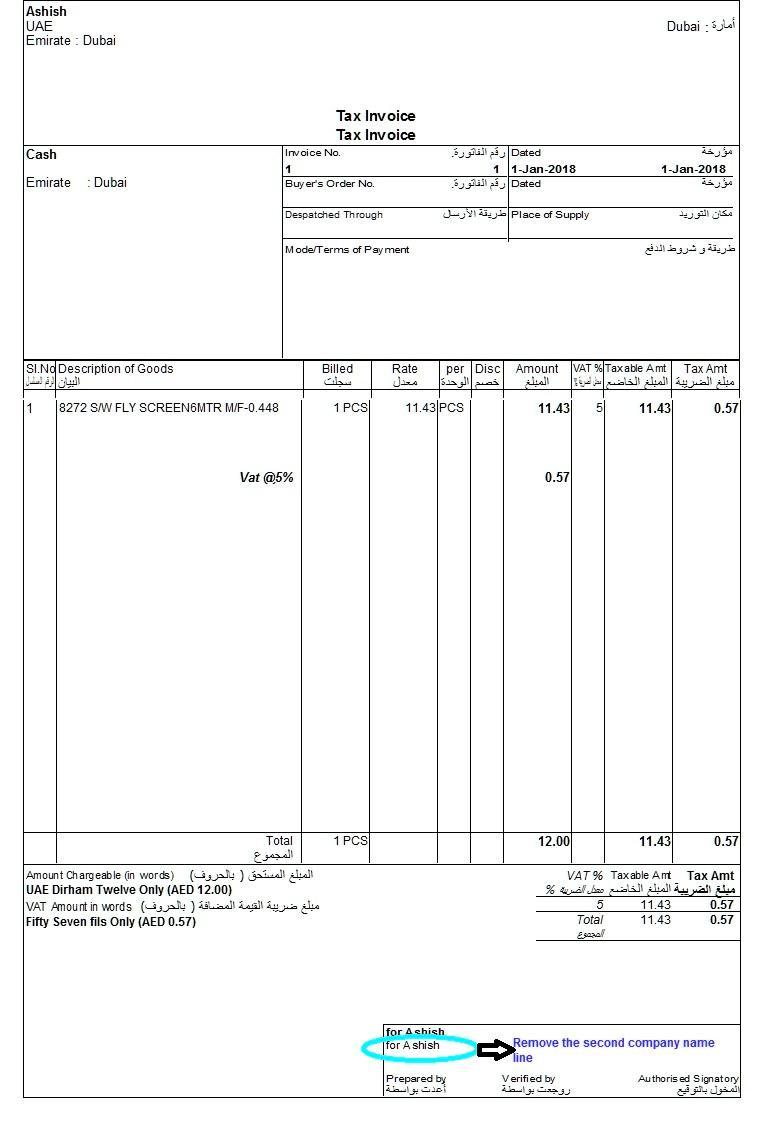InvoiceDate: (513, 162, 579, 177)
InvoiceNumber: (285, 162, 296, 178)
TotalAmount: (538, 831, 575, 852)
